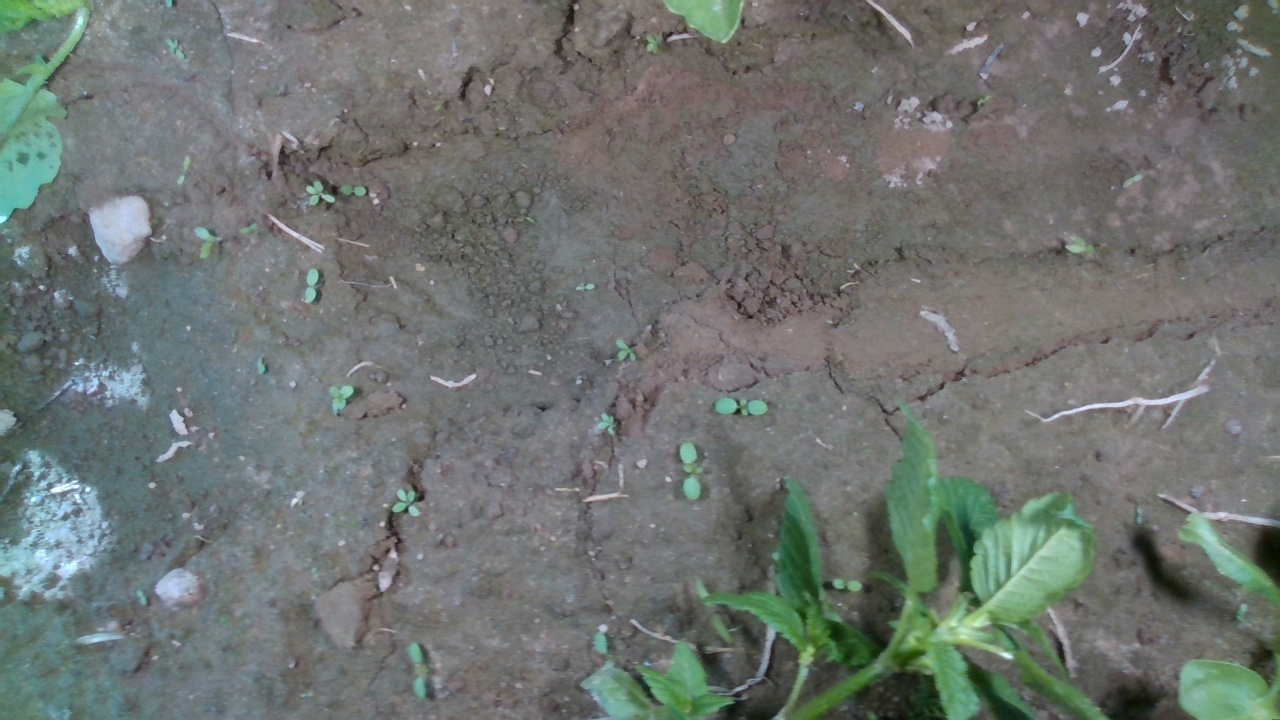weed: (678, 441, 705, 503), (405, 639, 428, 703), (713, 397, 770, 418), (327, 384, 356, 417), (193, 225, 218, 262), (391, 486, 420, 517), (304, 180, 336, 208), (174, 151, 193, 187), (302, 268, 320, 306), (614, 338, 637, 362), (831, 577, 865, 593), (596, 411, 618, 435), (336, 183, 368, 197), (574, 280, 596, 293)
